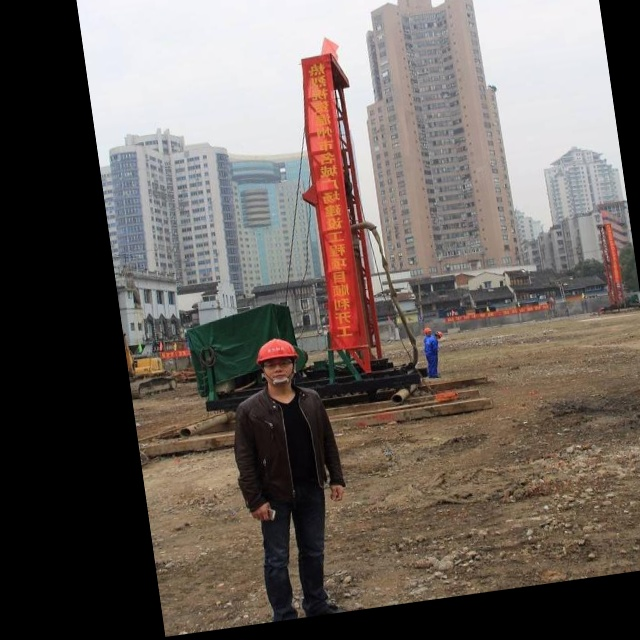Con_Casco: (255, 335, 301, 385)
Sin_Chaleco: (228, 385, 342, 506)
